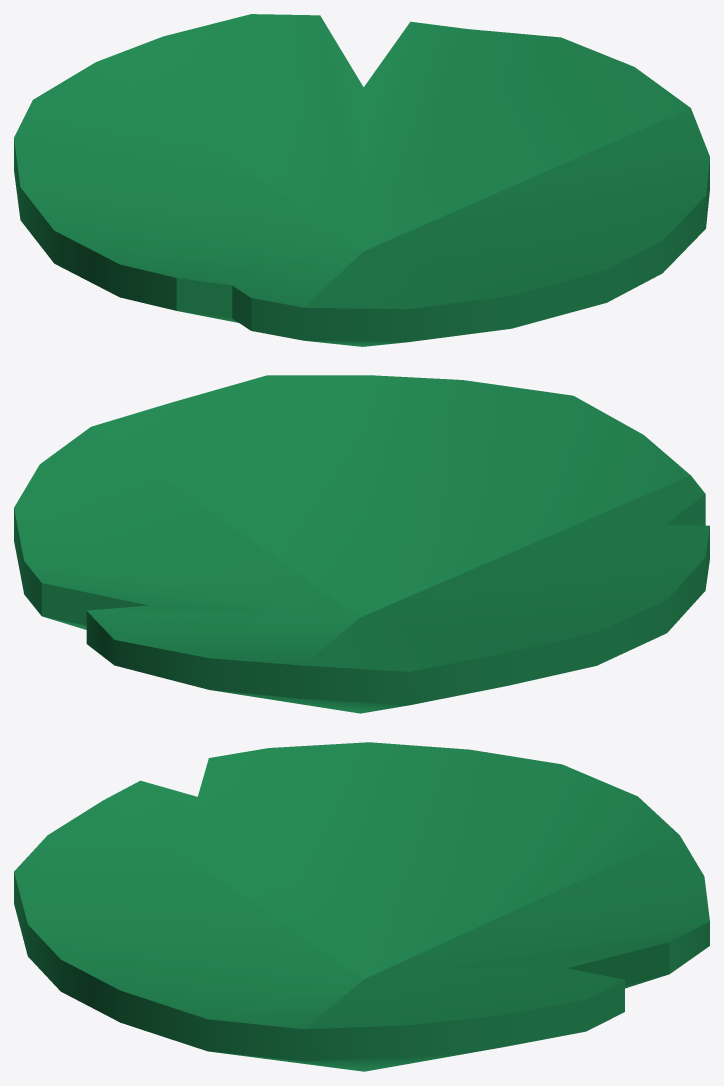
Rendered from plant_mushroom_leaf_C_chip_thick.fbx.
The picture shows the model from 3 angles, top to bottom: view 1: azimuth 30°, elevation 25°; view 2: azimuth 150°, elevation 25°; view 3: azimuth 270°, elevation 25°; orthographic projection. The views are drawn at different scales.
Parts seen in each view (by area): view 1: plant_mushroom_leaf_C_chip_thick; view 2: plant_mushroom_leaf_C_chip_thick; view 3: plant_mushroom_leaf_C_chip_thick.
Boxes of the visible parts, x1,y1,x2,y2 form: plant_mushroom_leaf_C_chip_thick: (14,14,709,346); plant_mushroom_leaf_C_chip_thick: (14,375,709,713); plant_mushroom_leaf_C_chip_thick: (14,742,709,1071).
Bounding box in the file's own units: 28.47 × 8.8 × 29.21.
